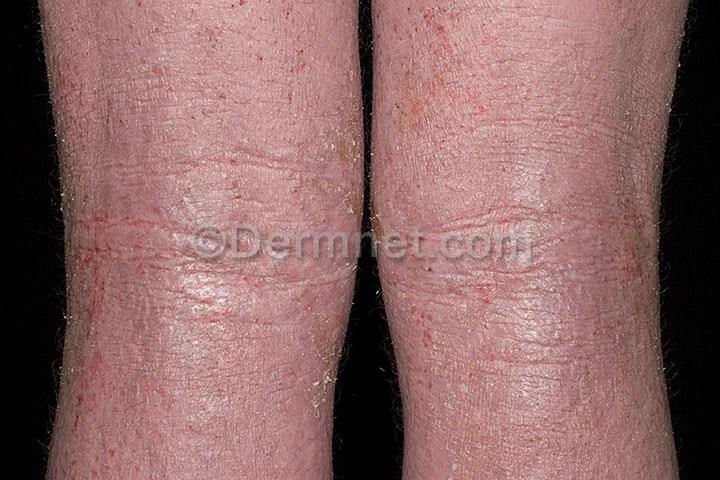Eritema 2: (37, 0, 362, 479), (372, 0, 696, 479)
exudacion 1: (75, 181, 168, 442), (399, 275, 499, 400)
xerosis 2: (621, 0, 701, 479), (39, 0, 104, 479), (306, 82, 391, 406)
